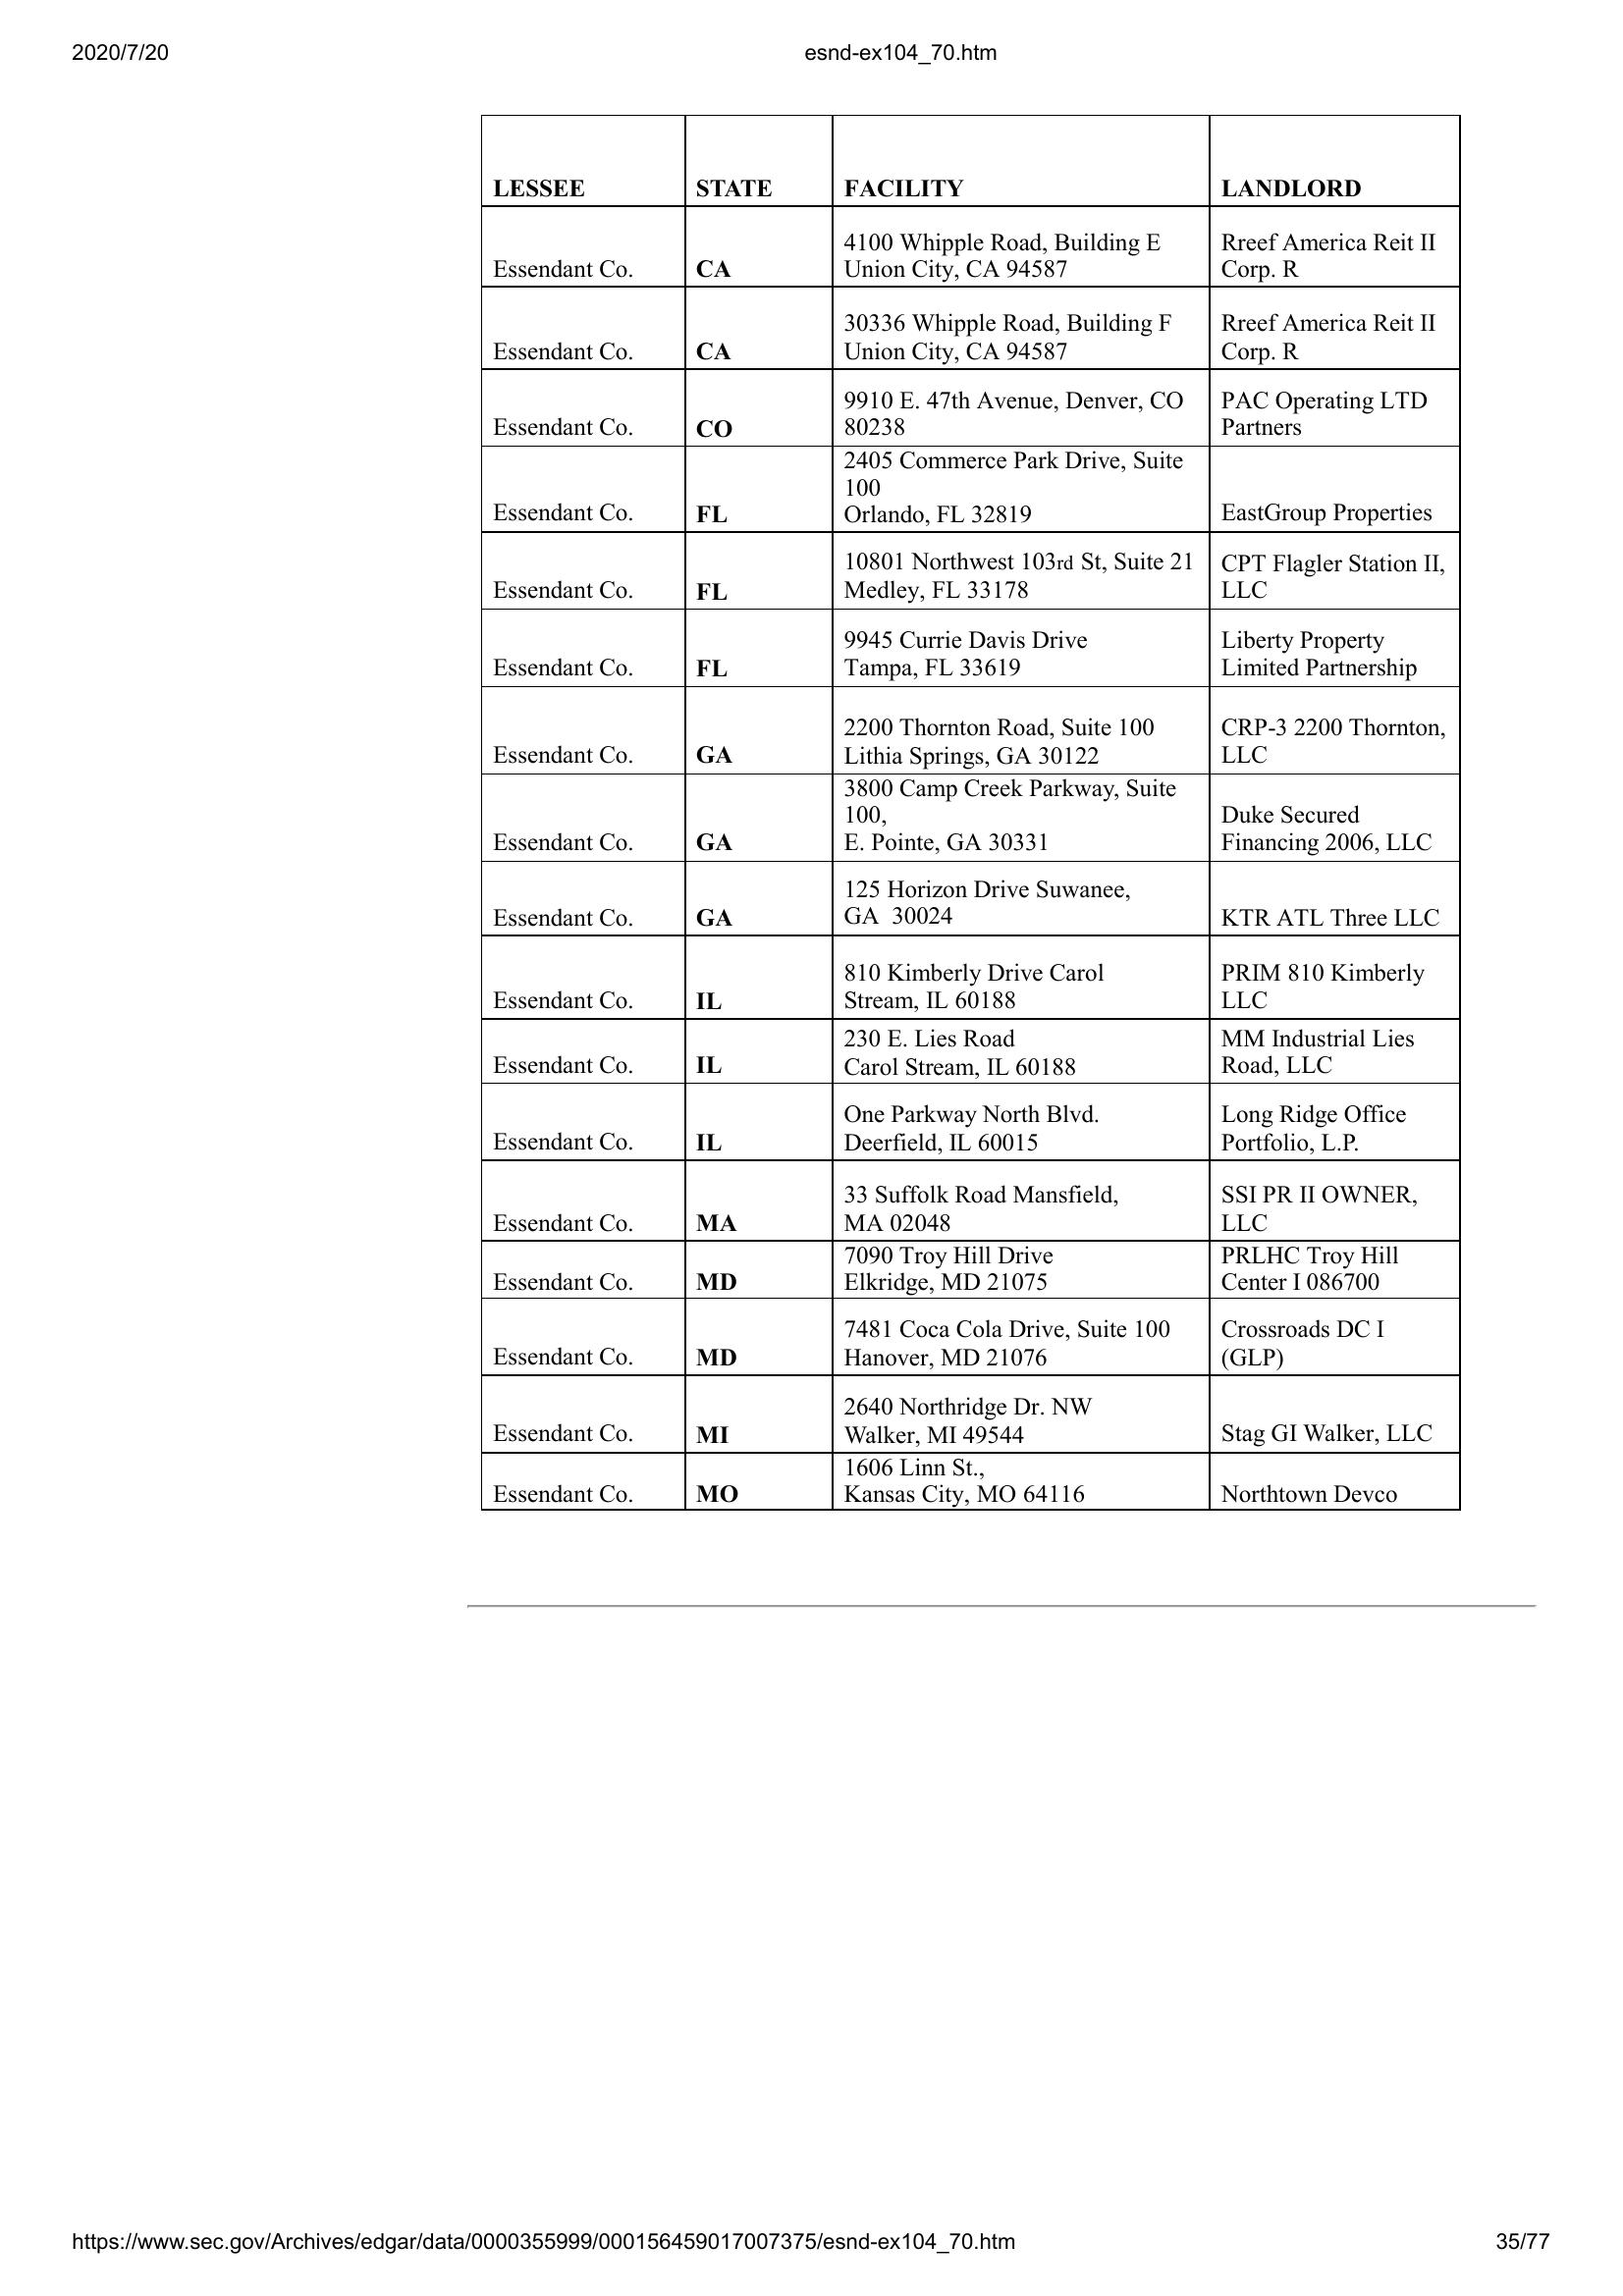table: (476, 109, 1468, 1518)
